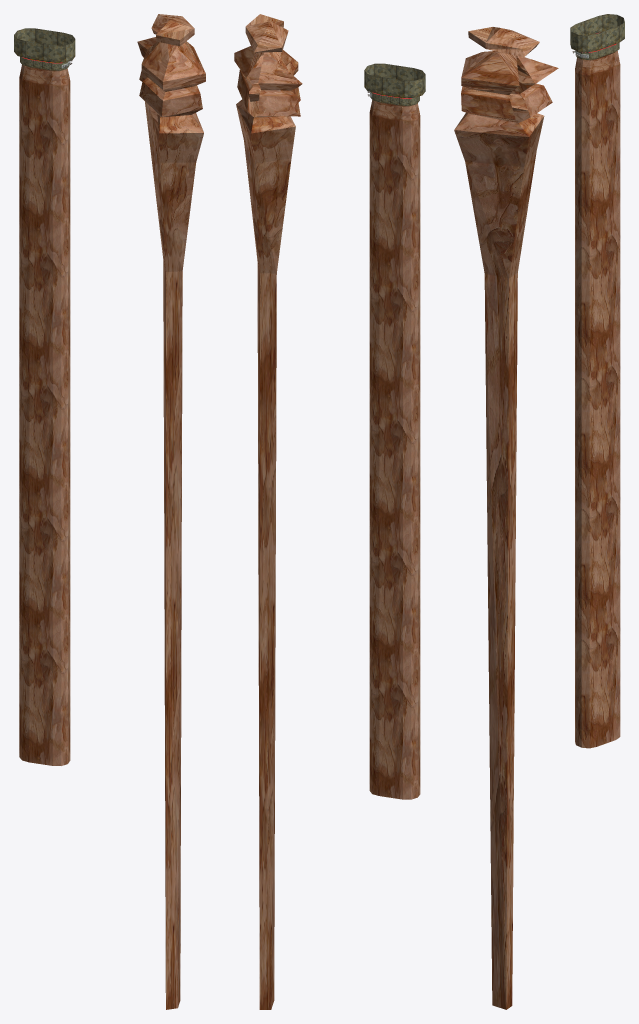
The picture shows the model from 3 angles, left to right: view 1: azimuth 30°, elevation 25°; view 2: azimuth 210°, elevation 25°; view 3: azimuth 270°, elevation 25°; orthographic projection.
Parts seen in each view (by area): view 1: Object_2; view 2: Object_2; view 3: Object_2.
Boxes of the visible parts, x1=… form: Object_2: x1=14, y1=14, x2=205, y2=1009; Object_2: x1=234, y1=14, x2=425, y2=1009; Object_2: x1=454, y1=14, x2=624, y2=1009.
Bounding box in the file's own units: 4635 × 33070 × 5247.
